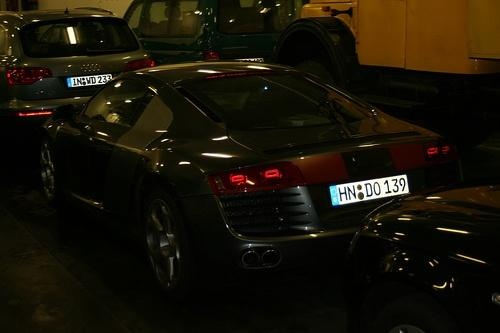car: (36, 60, 464, 298), (1, 8, 157, 140), (357, 184, 499, 327)
